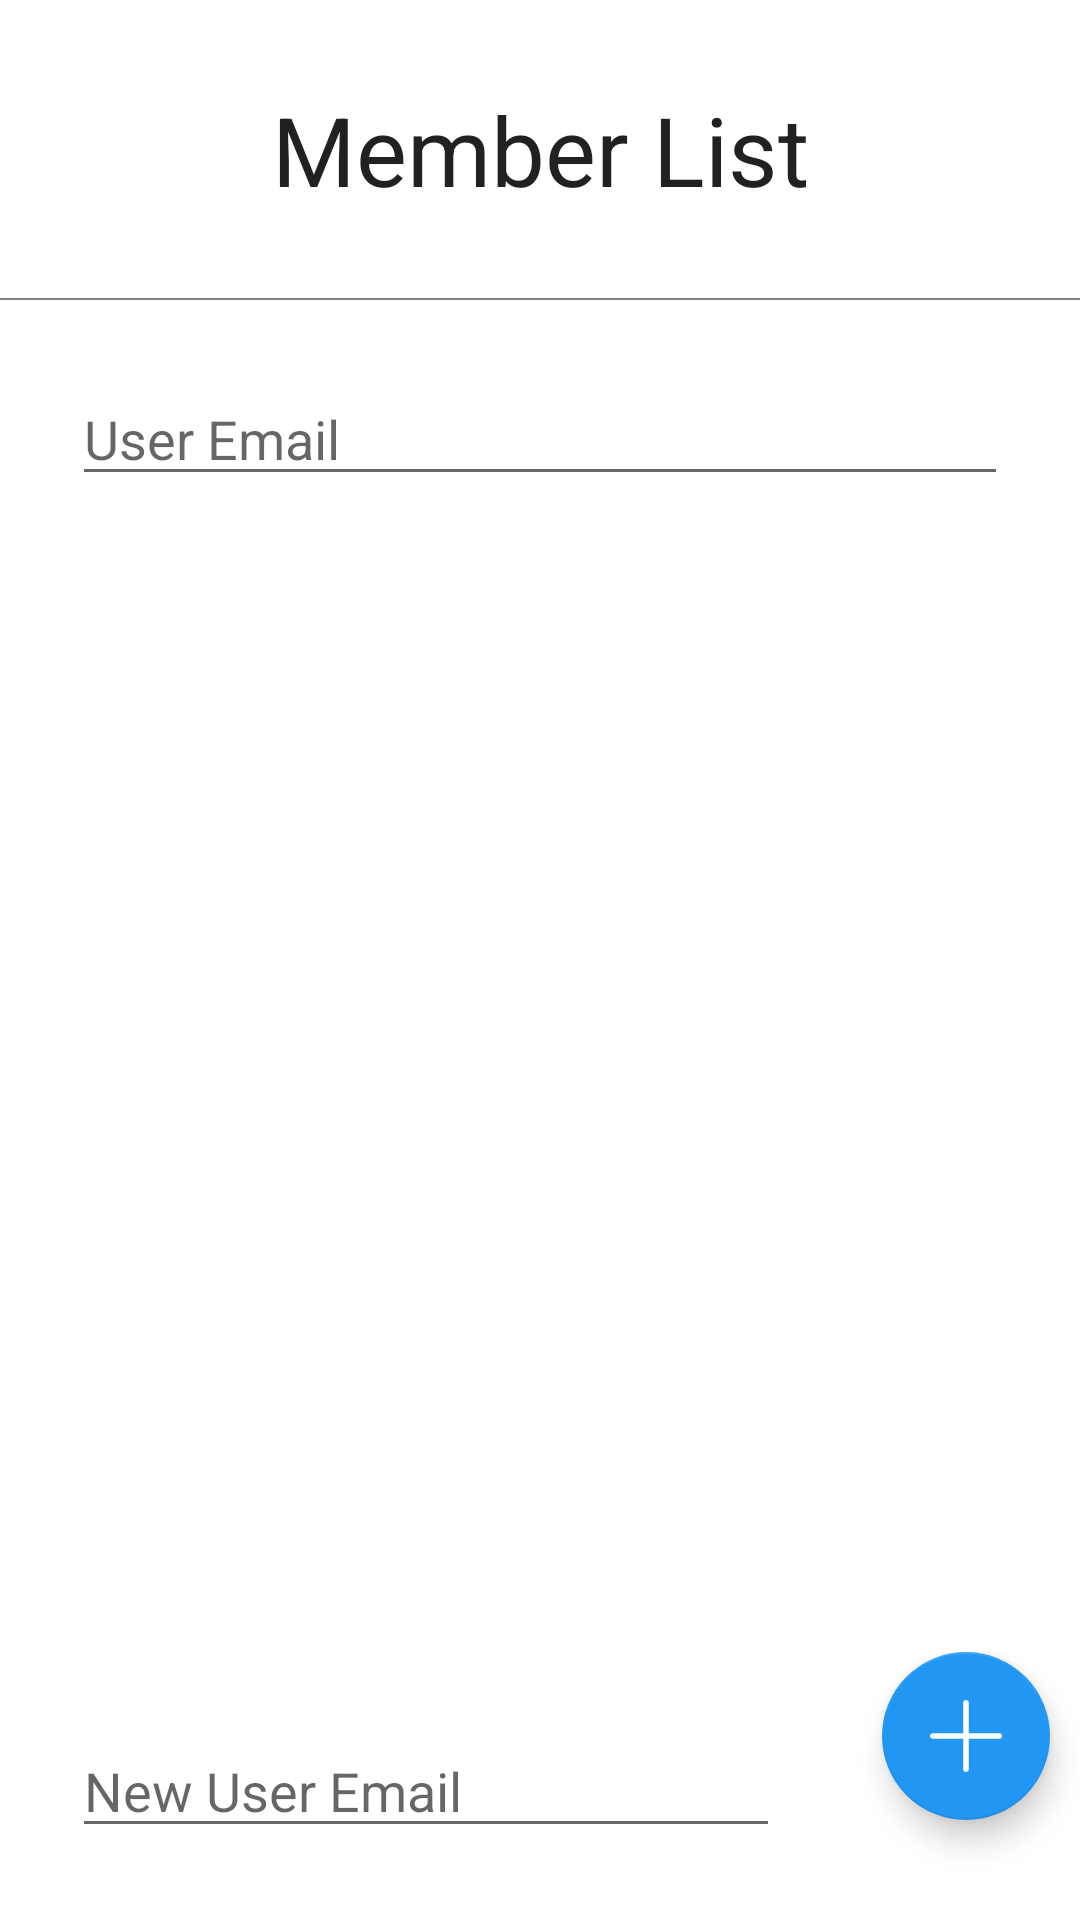

Locate icon controls on the screen. Image size 1080×1920, boxes as (x1, y1, x2, y2).
Add: (882, 1652, 1050, 1820)
